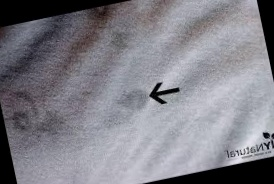oil: (96, 83, 156, 133)
